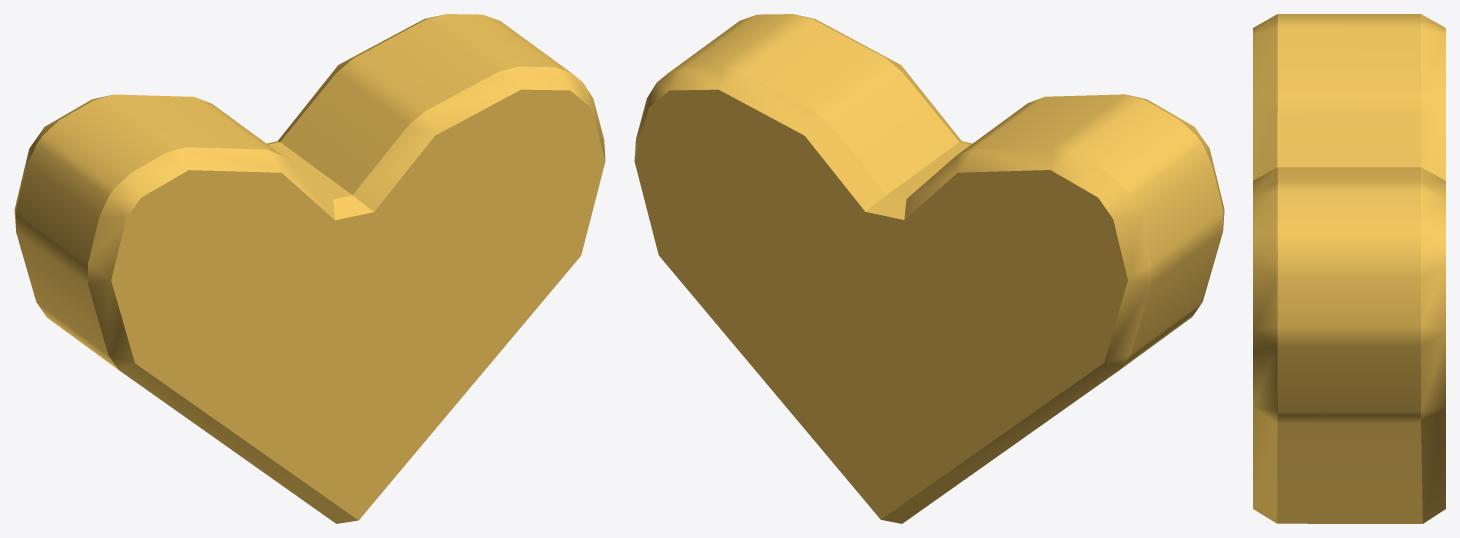
File: O_heart.fbx
3 renders of one model, left to right at view 1: azimuth 30°, elevation 25°; view 2: azimuth 150°, elevation 25°; view 3: azimuth 270°, elevation 25°, orthographic.
Parts seen in each view (by area): view 1: hart; view 2: hart; view 3: hart.
Part boxes in pixels (x1,y1,x2,y2): hart: (14,14,605,523); hart: (634,14,1224,523); hart: (1253,14,1445,523).
Size of the model in its own units: 1020 by 781 by 331.
